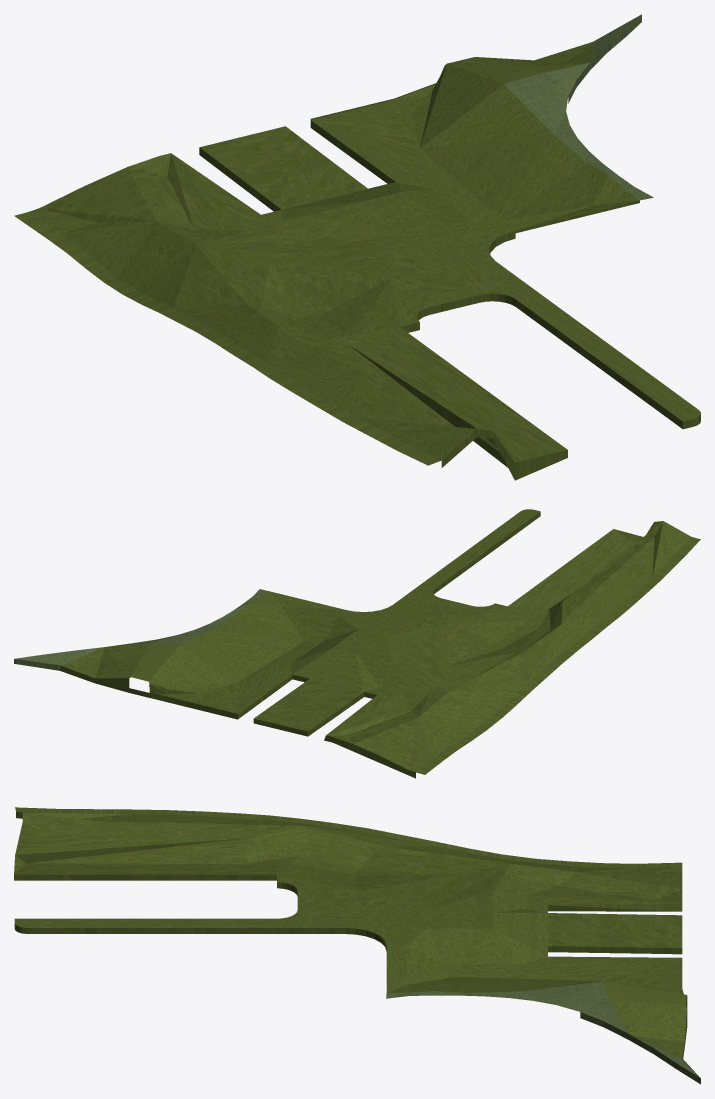
File: lodlandy03.obj
The picture shows the model from 3 angles, top to bottom: view 1: azimuth 30°, elevation 25°; view 2: azimuth 150°, elevation 25°; view 3: azimuth 270°, elevation 25°; orthographic projection. The views are drawn at different scales.
Parts seen in each view (by area): view 1: lodlandy03; view 2: lodlandy03; view 3: lodlandy03.
Boxes of the visible parts, bbox=[...] form: lodlandy03: bbox=[14, 14, 700, 480]; lodlandy03: bbox=[14, 509, 700, 778]; lodlandy03: bbox=[14, 807, 700, 1084].
Bounding box in the file's own units: 235 × 31.65 × 268.
2 materials, 2 textured.
